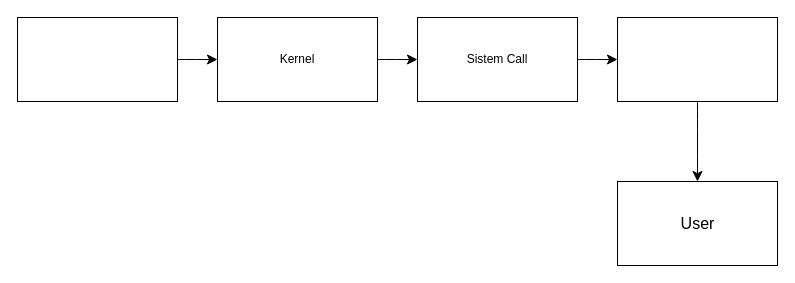
Some shapes in this 795 by 283 pixel diagram are drawn without their labels. The shapes that lost their labels are listed below. From the top down, each one's centre as x and y in pixels, then its label:
At [97,59]: "Hardware".
At [697,59]: "Aplikasi".
